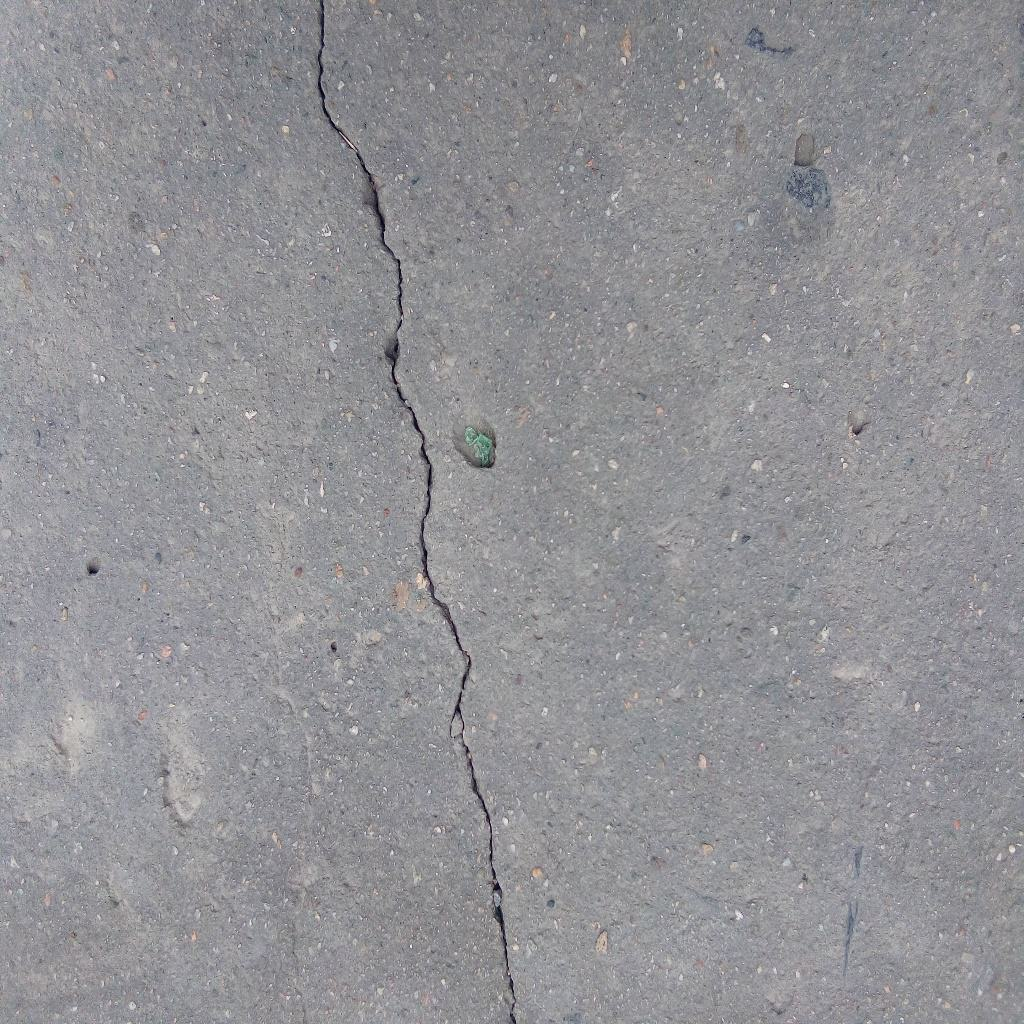Crack: (313, 1, 518, 1024)
Spalling: (161, 707, 207, 827), (451, 405, 498, 469), (847, 405, 872, 437), (794, 133, 815, 167), (86, 557, 102, 575), (329, 640, 338, 654)
